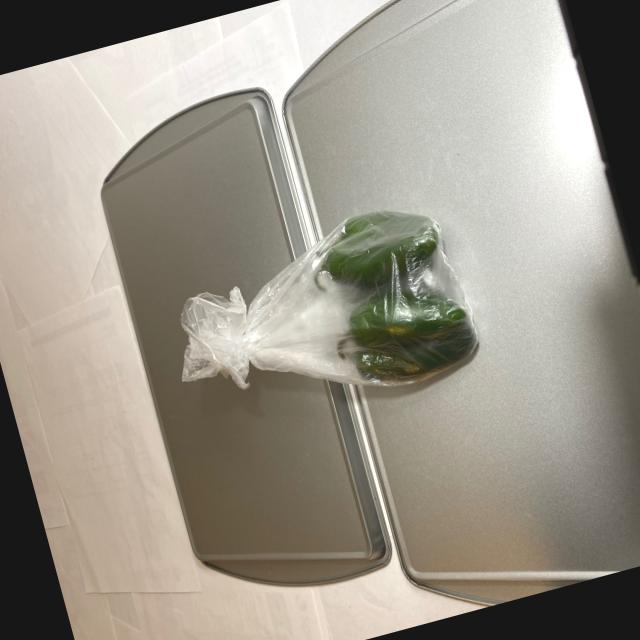chilli: (284, 185, 488, 413)
